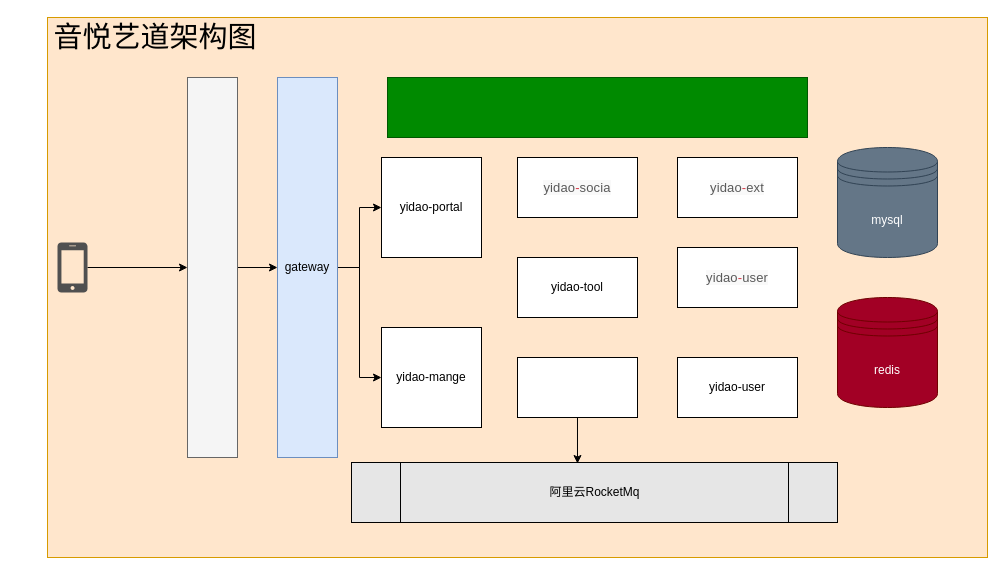
Some shapes in this 1005 by 575 pixel diagram are drawn without their labels. Each missing label, with the centre of its shape:
"Eureka" goes at pixel 597 107.
"nginx" goes at pixel 212 267.
"payment" goes at pixel 577 387.
